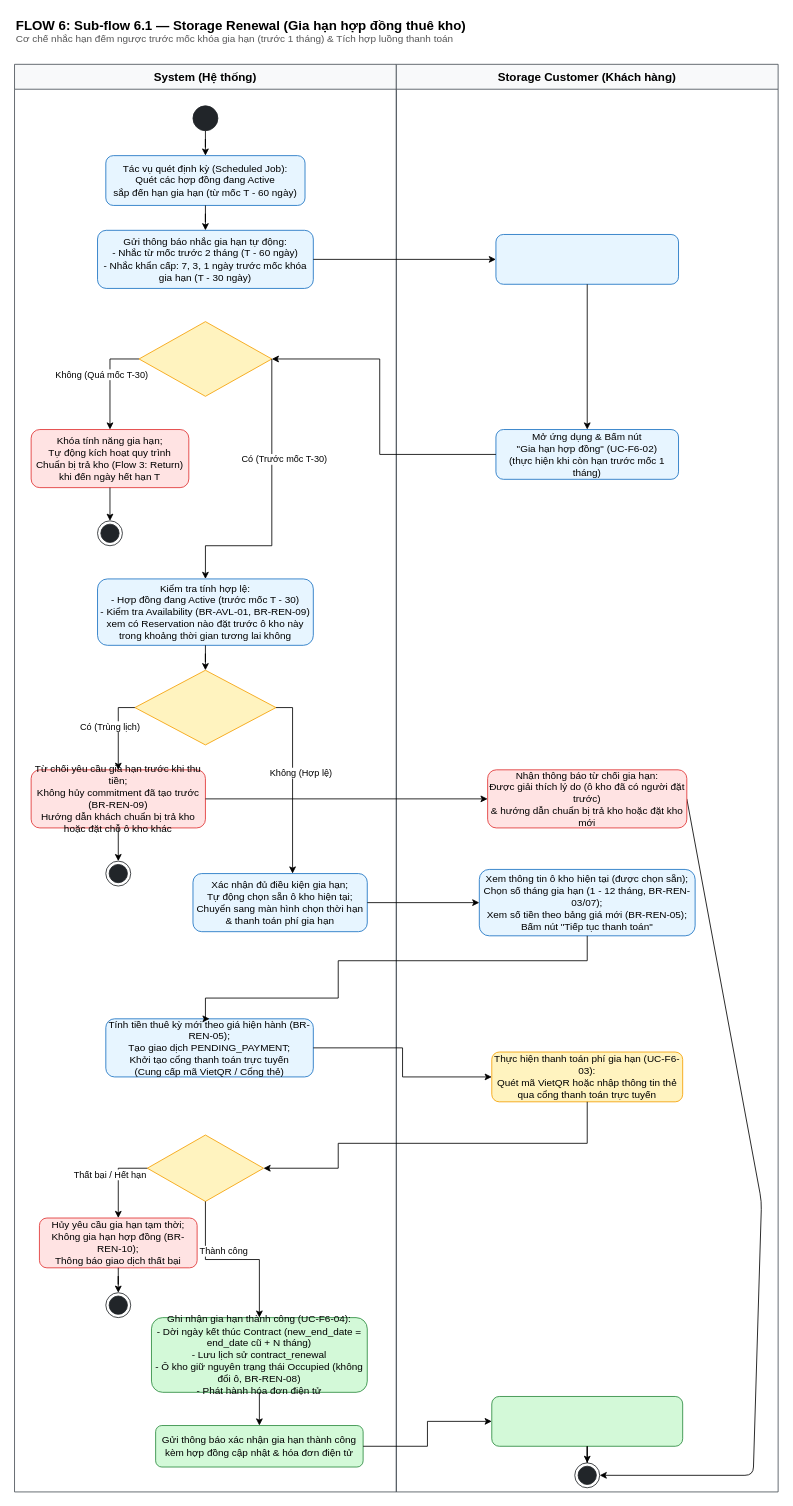
Image size: 793x1506. Some labels were removed from this diagram. The centre of each missing label's shape, as x and y in pixels:
Có ai đặt trước ô kho trong tương lai? (Capacity conflict): pixel 205 707
Khách gửi yêu cầu gia hạn trước mốc T - 30 ngày?: pixel 205 358
Nhận thông báo gia hạn thành công, biên lai hóa đơn và tiếp tục sử dụng kho: pixel 587 1421
Nhận thông báo nhắc gia hạn (trước 2 tháng hoặc đếm ngược trước mốc khóa): pixel 587 259
Thanh toán thành công? (BR-REN-04): pixel 205 1167
